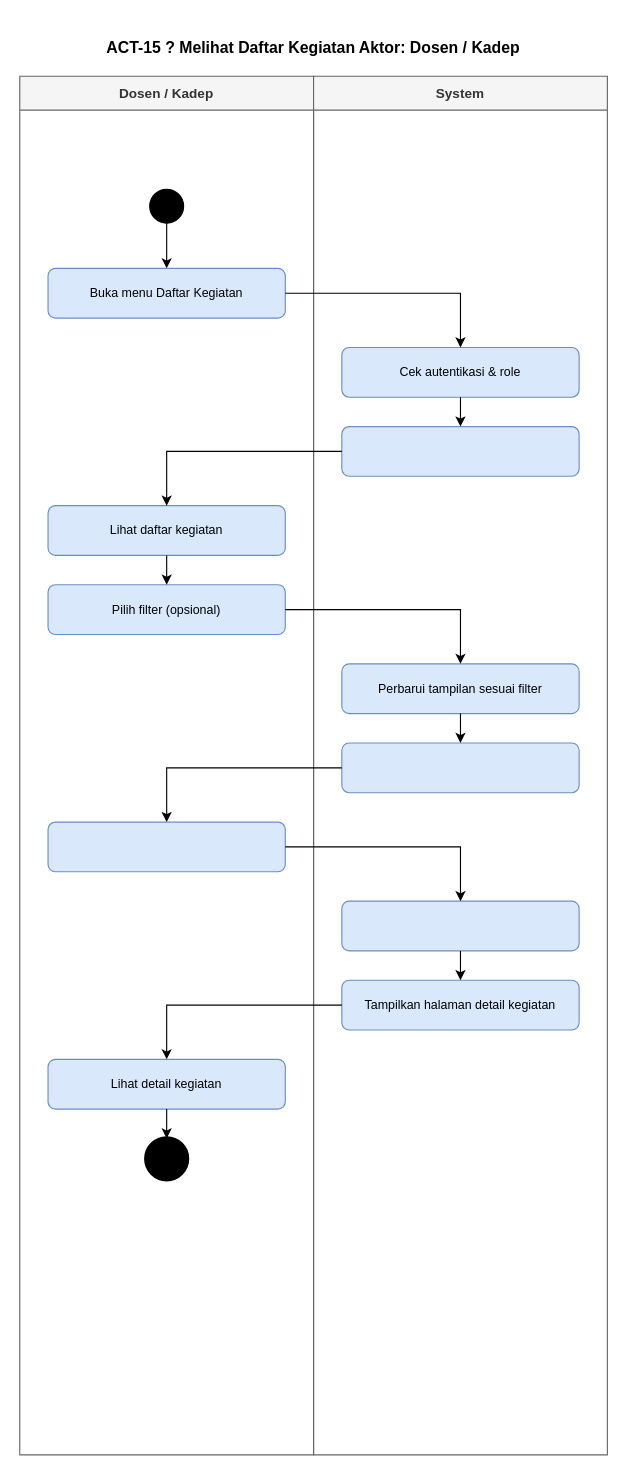
Image size: 627x1475. Some labels were removed from this diagram. The centre of each missing label's shape, as x and y in pixels:
Ambil data detail kegiatan: the point at 460,925
Klik kegiatan ? lihat detail (opsional): the point at 166,846
Tampilkan daftar kegiatan: the point at 460,450
Tampilkan hasil filter: the point at 460,767
